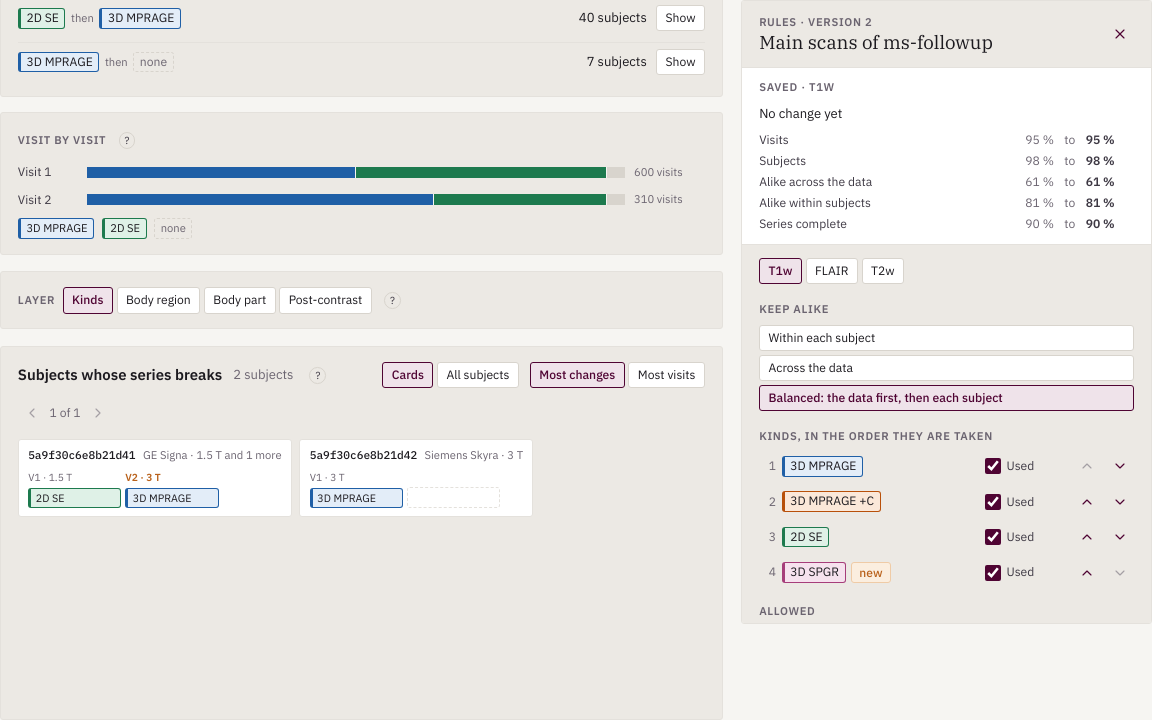
Scenario: Main scans of a cohort › draws every subject as a strip by scanner with the group lit, a changed visit's edge marked
The image size is (1152, 720).
(page scrolled)
Click the button "All subjects" at (478, 375), box [437, 362, 519, 388]
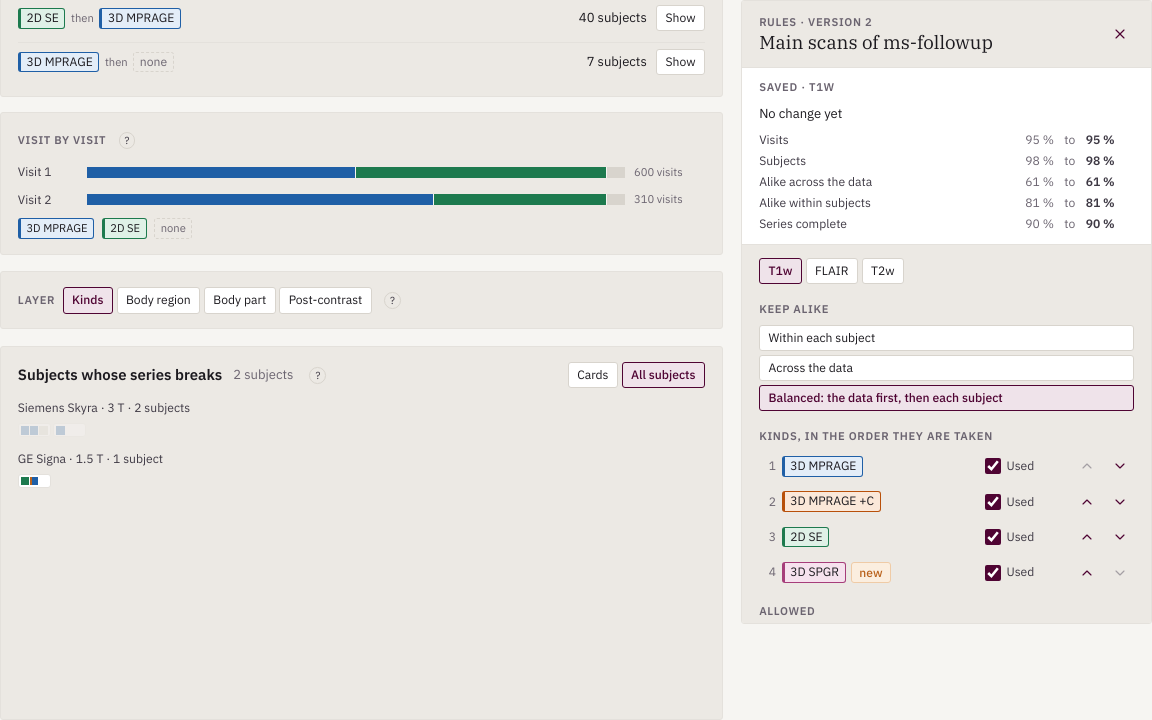
Expected: the number of icons with class "changed" is 1, [30, 477, 38, 486]
